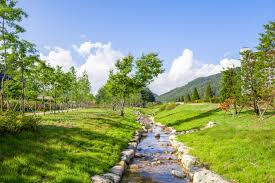field: (6, 106, 274, 182)
sky: (23, 3, 263, 72)
tree: (1, 1, 44, 115), (216, 28, 272, 111), (100, 56, 159, 116)
